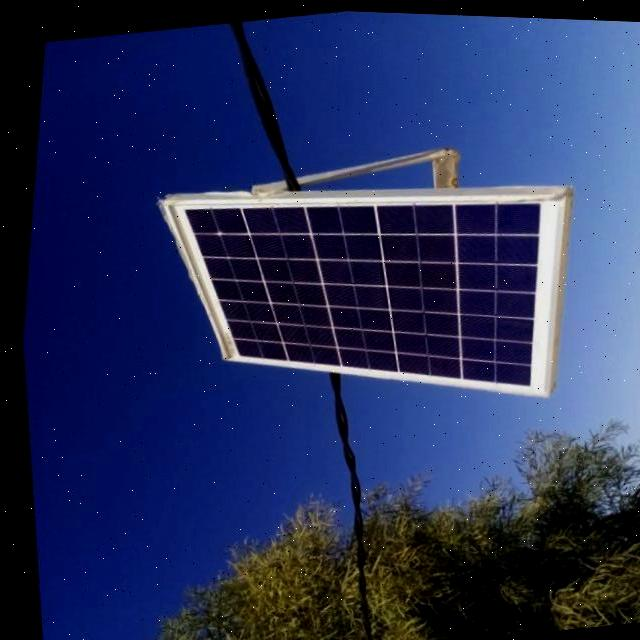Normal Solar Panel: (146, 145, 584, 442)
